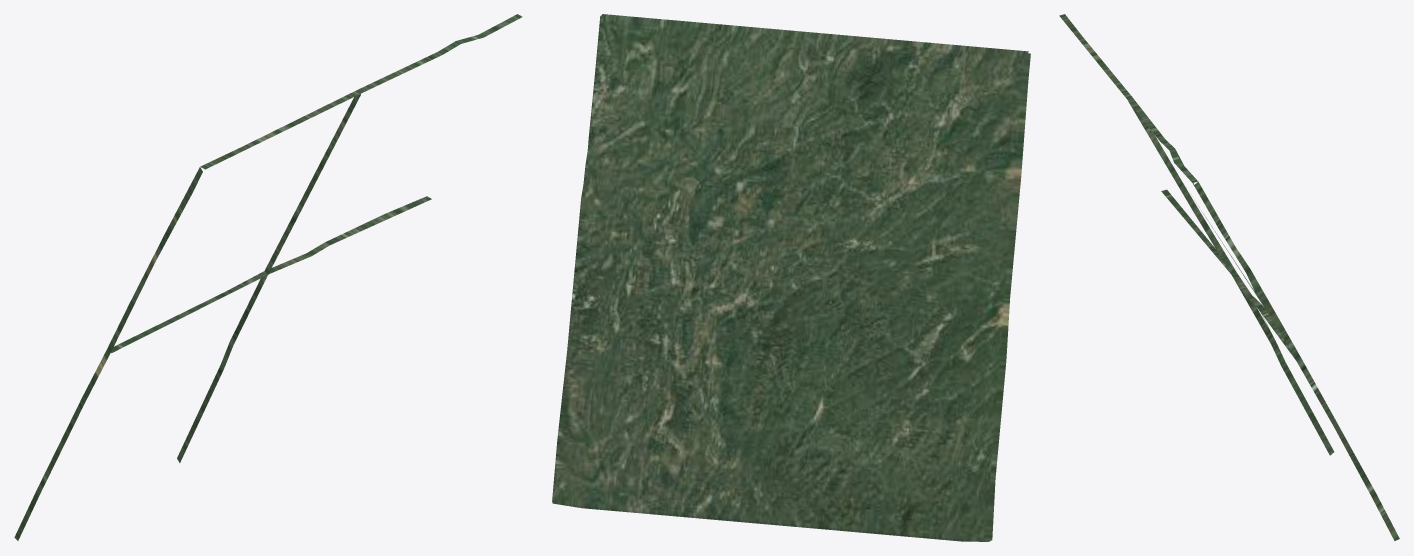
The picture shows the model from 3 angles, left to right: view 1: azimuth 30°, elevation 25°; view 2: azimuth 150°, elevation 25°; view 3: azimuth 270°, elevation 25°; orthographic projection. The views are drawn at different scales.
Size of the model in its own units: 313776 by 283662 by 225507.
1 material, 1 textured.
